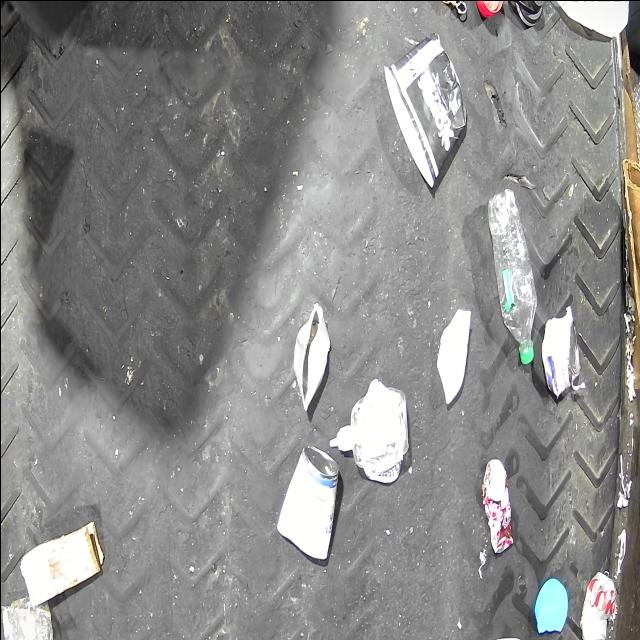can: (274, 442, 340, 560), (292, 302, 330, 409), (480, 458, 514, 554), (542, 313, 578, 395), (580, 567, 620, 640)
milk_jug: (538, 0, 628, 37)
plastic_bottle: (487, 188, 536, 364)
